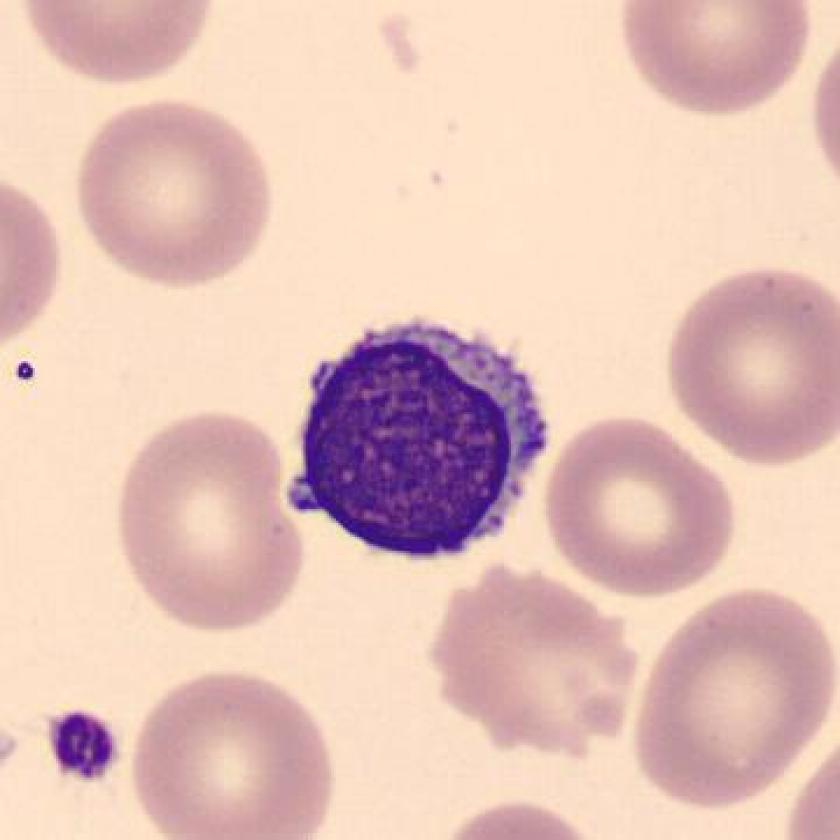lymphocyte: (274, 304, 561, 582)
